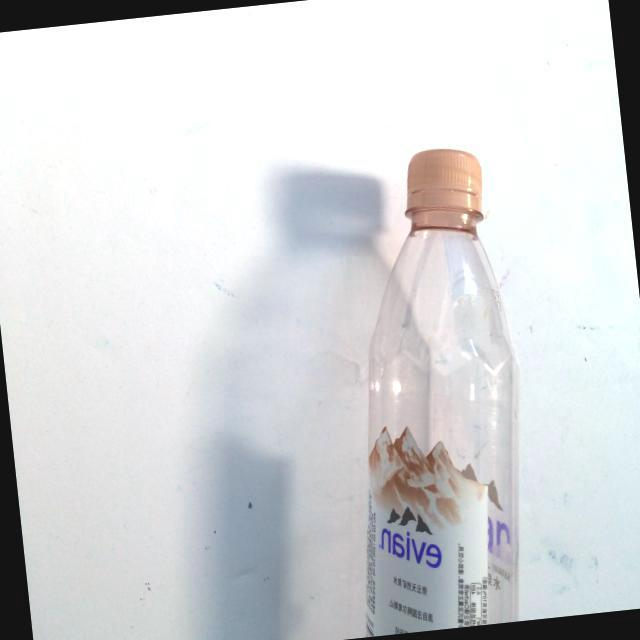plastic: (235, 116, 568, 640)
